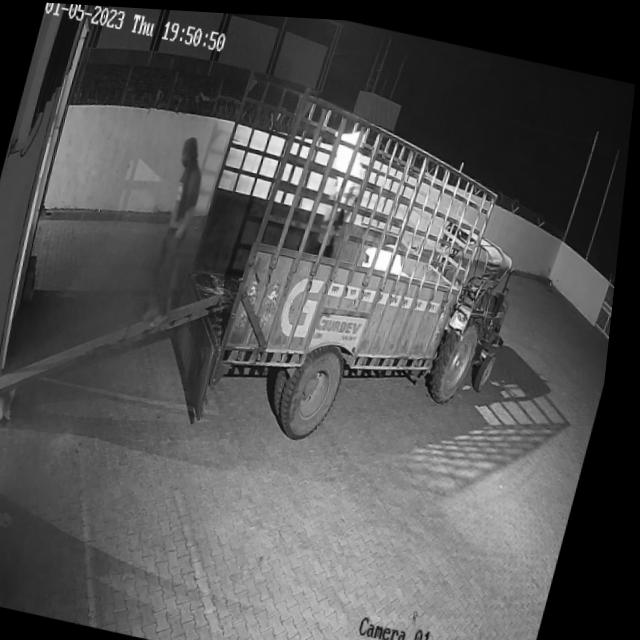sack: (325, 121, 377, 193)
